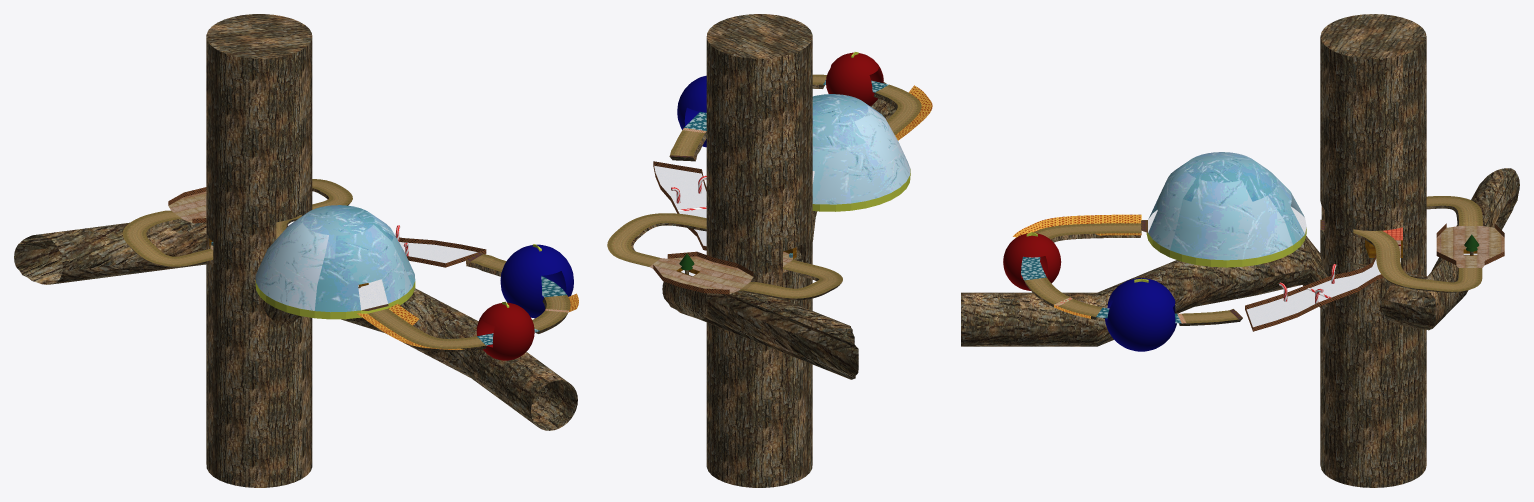
3 views of the same model, side by side, from view 1: azimuth 30°, elevation 25°; view 2: azimuth 150°, elevation 25°; view 3: azimuth 270°, elevation 25° (orthographic).
Parts seen in each view (by area): view 1: Tree f1 up.031, Tree f1 up, Tree f1 up.018, Tree f1 up.027, Tree f1 up.003, Tree f1 up.010, Tree f1 up.025, Tree f1 up.017, Tree f1 up.016, Tree f1 up.005, Tree f1 up.008, Tree f1 up.013 (+1 smaller); view 2: Tree f1 up.031, Tree f1 up, Tree f1 up.018, Tree f1 up.003, Tree f1 up.002, Tree f1 up.025, Tree f1 up.010, Tree f1 up.017, Tree f1 up.005, Tree f1 up.027, Tree f1 up.008, Tree f1 up.016 (+2 smaller); view 3: Tree f1 up.031, Tree f1 up, Tree f1 up.018, Tree f1 up.027, Tree f1 up.003, Tree f1 up.010, Tree f1 up.017, Tree f1 up.002, Tree f1 up.025, Tree f1 up.005, Tree f1 up.013, Tree f1 up.016 (+2 smaller).
Part boxes in pixels (bbox=[...]): Tree f1 up.031: bbox=[206, 14, 312, 487]; Tree f1 up: bbox=[14, 219, 577, 430]; Tree f1 up.018: bbox=[255, 205, 415, 312]; Tree f1 up.027: bbox=[500, 244, 573, 318]; Tree f1 up.003: bbox=[122, 179, 352, 266]; Tree f1 up.010: bbox=[368, 254, 570, 348]; Tree f1 up.025: bbox=[476, 302, 534, 360]; Tree f1 up.017: bbox=[358, 242, 477, 310]; Tree f1 up.016: bbox=[255, 280, 415, 319]; Tree f1 up.005: bbox=[168, 187, 486, 267]; Tree f1 up.008: bbox=[127, 188, 567, 351]; Tree f1 up.013: bbox=[357, 293, 578, 349]; Tree f1 up.031: bbox=[706, 14, 812, 487]; Tree f1 up: bbox=[662, 82, 895, 379]; Tree f1 up.018: bbox=[812, 94, 910, 204]; Tree f1 up.003: bbox=[607, 213, 842, 298]; Tree f1 up.002: bbox=[649, 251, 792, 293]; Tree f1 up.025: bbox=[826, 52, 883, 105]; Tree f1 up.010: bbox=[670, 74, 921, 156]; Tree f1 up.017: bbox=[654, 165, 814, 276]; Tree f1 up.005: bbox=[653, 161, 753, 294]; Tree f1 up.027: bbox=[677, 75, 706, 147]; Tree f1 up.008: bbox=[629, 84, 897, 300]; Tree f1 up.016: bbox=[812, 169, 910, 211]; Tree f1 up.031: bbox=[1320, 14, 1426, 487]; Tree f1 up: bbox=[961, 168, 1519, 346]; Tree f1 up.018: bbox=[1148, 152, 1304, 260]; Tree f1 up.027: bbox=[1105, 278, 1176, 351]; Tree f1 up.003: bbox=[1353, 196, 1482, 291]; Tree f1 up.010: bbox=[1024, 223, 1238, 323]; Tree f1 up.017: bbox=[1148, 206, 1477, 327]; Tree f1 up.002: bbox=[1396, 226, 1504, 267]; Tree f1 up.025: bbox=[1003, 233, 1061, 290]; Tree f1 up.005: bbox=[1245, 223, 1504, 331]; Tree f1 up.013: bbox=[1013, 214, 1141, 318]; Tree f1 up.016: bbox=[1146, 227, 1306, 267].
Size of the model in its own units: 60149 by 67427 by 79583.
Materials: 19 (19 with a texture image).
